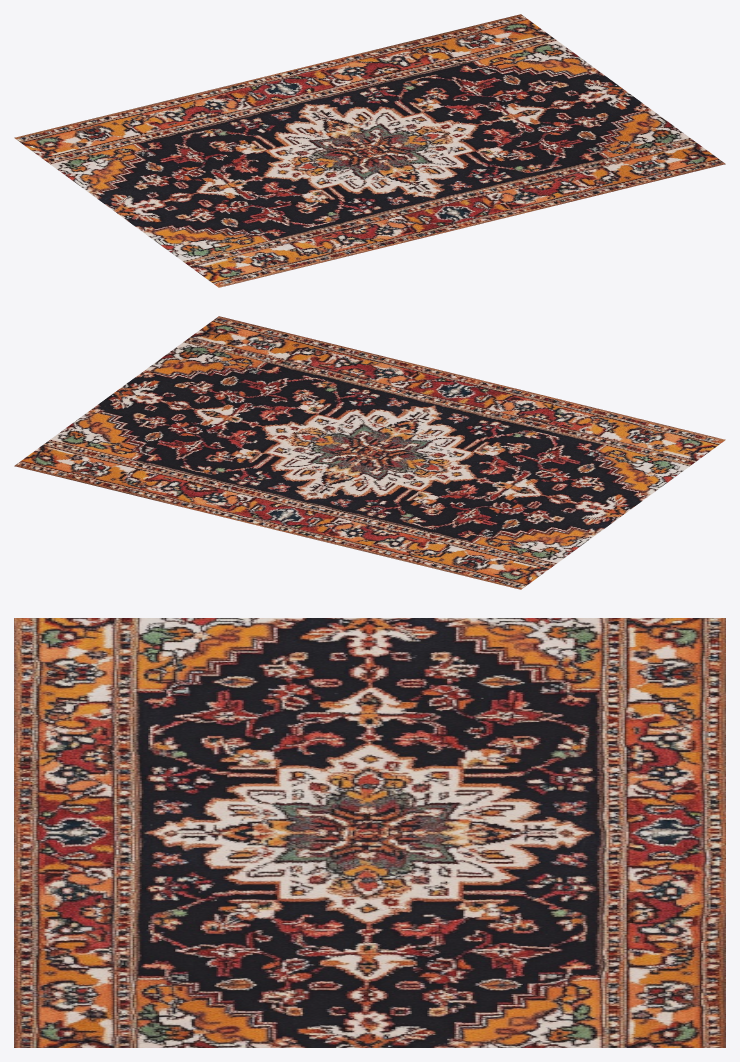
3 renders of one model, top to bottom at view 1: azimuth 30°, elevation 25°; view 2: azimuth 150°, elevation 25°; view 3: azimuth 270°, elevation 25°, orthographic. The views are drawn at different scales.
Visible parts, largest first — view 1: Plane; view 2: Plane; view 3: Plane.
Part boxes in pixels (x1,y1,x2,y2): Plane: (14,14,725,287); Plane: (14,316,725,589); Plane: (14,618,725,1047).
Bounding box in the file's own units: 200 × 2.28e-05 × 140.
Materials: 1 (1 with a texture image).
